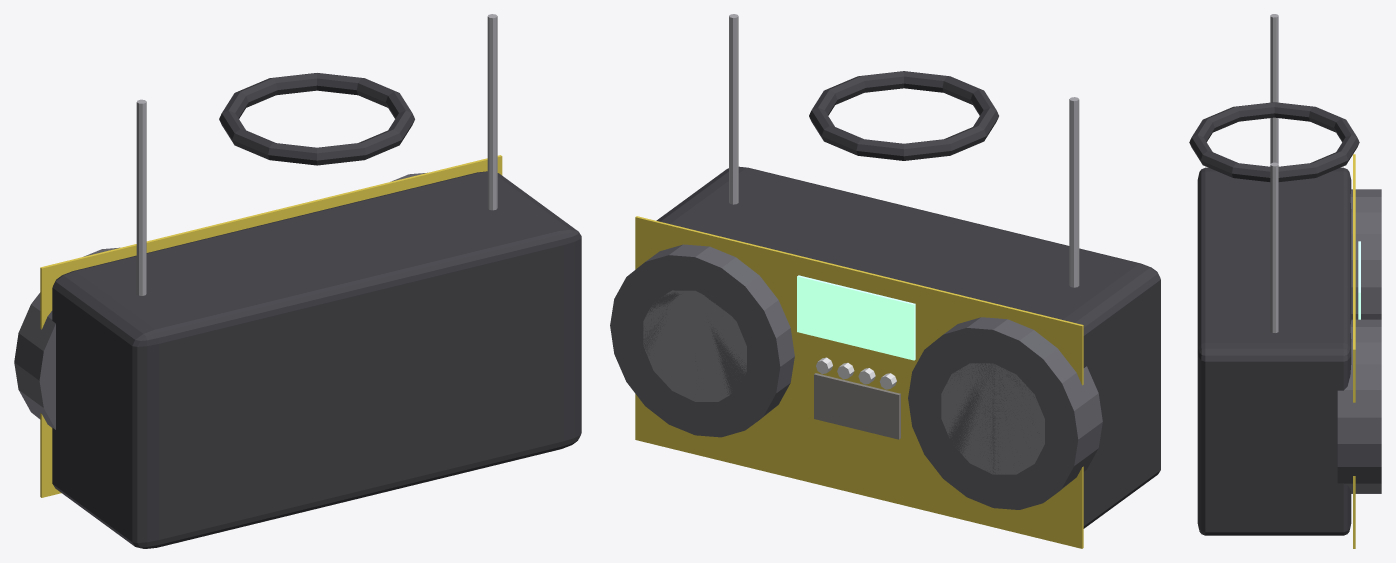
Rendered from boombox.fbx.
3 renders of one model, left to right at view 1: azimuth 30°, elevation 25°; view 2: azimuth 150°, elevation 25°; view 3: azimuth 270°, elevation 25°, orthographic. The views are drawn at different scales.
Visible parts, largest first — view 1: BB_Body, BB_Handle, BB_Trim, BB_Speaker, BB_Ant, BB_Ant.001; view 2: BB_Body, BB_Trim, BB_Speaker, BB_Speaker.001, BB_Cone, BB_Cone.001, BB_Handle, BB_Display, BB_Cassette, BB_Ant, BB_Ant.001; view 3: BB_Body, BB_Speaker.001, BB_Handle, BB_Speaker, BB_Ant.001, BB_Ant, BB_Trim.
Part boxes in pixels (bbox=[...]): BB_Body: bbox=[52, 171, 581, 548]; BB_Handle: bbox=[219, 73, 414, 165]; BB_Trim: bbox=[40, 155, 502, 497]; BB_Speaker: bbox=[14, 247, 119, 429]; BB_Ant: bbox=[136, 99, 146, 295]; BB_Ant.001: bbox=[487, 14, 497, 210]; BB_Body: bbox=[656, 166, 1160, 528]; BB_Trim: bbox=[635, 216, 1083, 548]; BB_Speaker: bbox=[908, 317, 1102, 509]; BB_Speaker.001: bbox=[610, 244, 794, 437]; BB_Cone: bbox=[941, 363, 1044, 474]; BB_Cone.001: bbox=[643, 290, 746, 401]; BB_Handle: bbox=[809, 71, 998, 160]; BB_Display: bbox=[797, 275, 915, 360]; BB_Cassette: bbox=[814, 373, 900, 439]; BB_Ant: bbox=[1069, 97, 1079, 287]; BB_Ant.001: bbox=[729, 14, 738, 204]; BB_Body: bbox=[1197, 167, 1351, 535]; BB_Speaker.001: bbox=[1337, 319, 1381, 493]; BB_Handle: bbox=[1189, 102, 1359, 181]; BB_Speaker: bbox=[1350, 189, 1381, 319]; BB_Ant.001: bbox=[1270, 162, 1278, 332]; BB_Ant: bbox=[1270, 14, 1278, 163]; BB_Trim: bbox=[1353, 154, 1355, 548].
Bounding box in the file's own units: 88 × 72.5 × 35.
